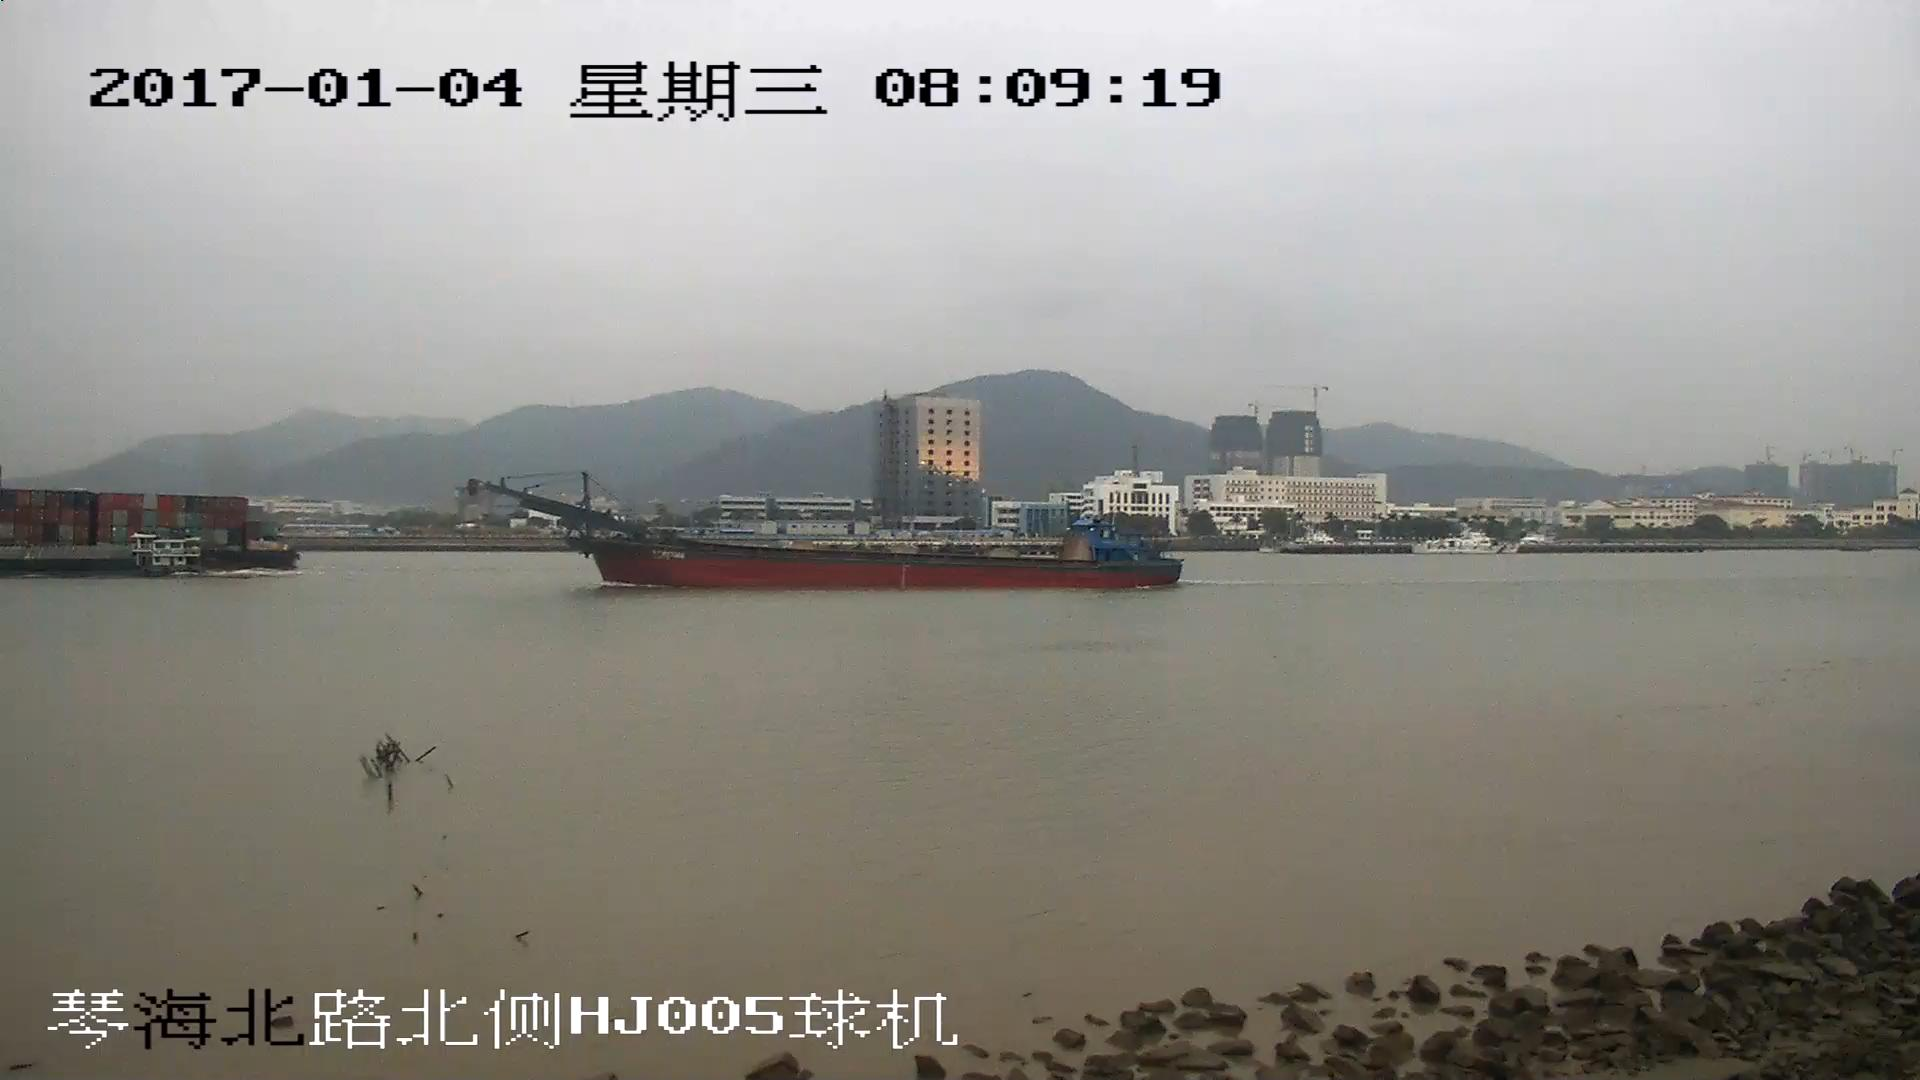bulk cargo carrier: (473, 477, 1180, 589)
container ship: (1, 491, 296, 572)
